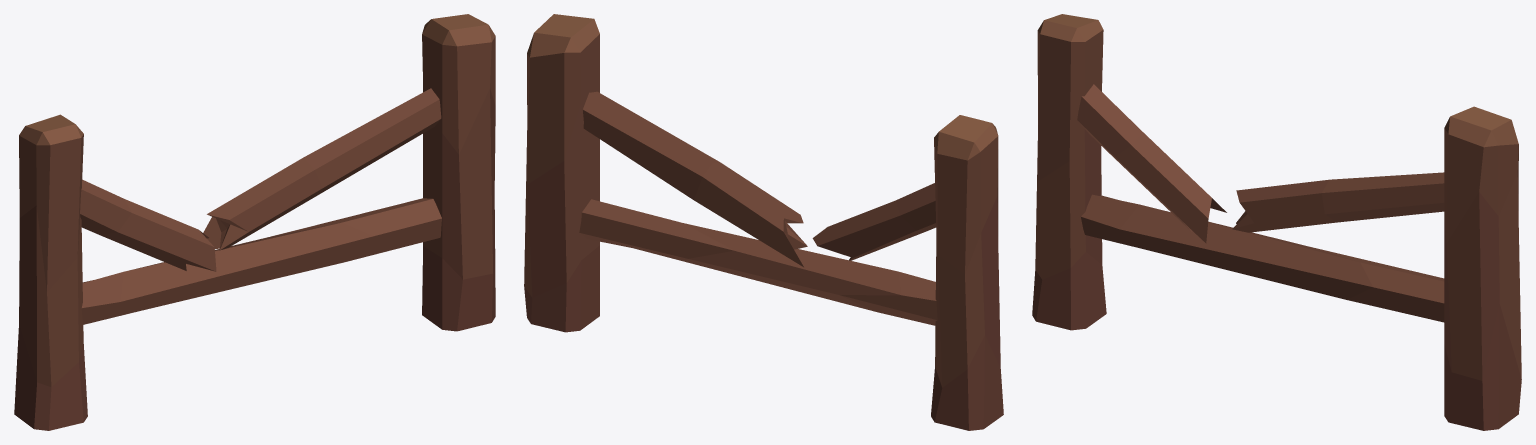
File: fence_log_broken_2.fbx
3 renders of one model, left to right at view 1: azimuth 30°, elevation 25°; view 2: azimuth 150°, elevation 25°; view 3: azimuth 330°, elevation 25°, orthographic. The views are drawn at different scales.
Visible parts, largest first — view 1: fence_log_broken_2; view 2: fence_log_broken_2; view 3: fence_log_broken_2.
Boxes of the visible parts, <box> form: fence_log_broken_2: <box>14,14,495,430</box>; fence_log_broken_2: <box>524,14,1003,430</box>; fence_log_broken_2: <box>1032,14,1521,430</box>.
Bounding box in the file's own units: 114 × 70.15 × 14.49.
